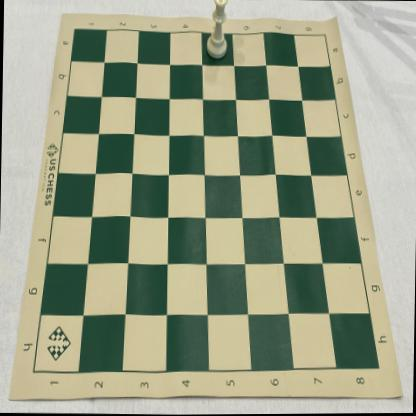white-queen: (204, 0, 228, 61)
